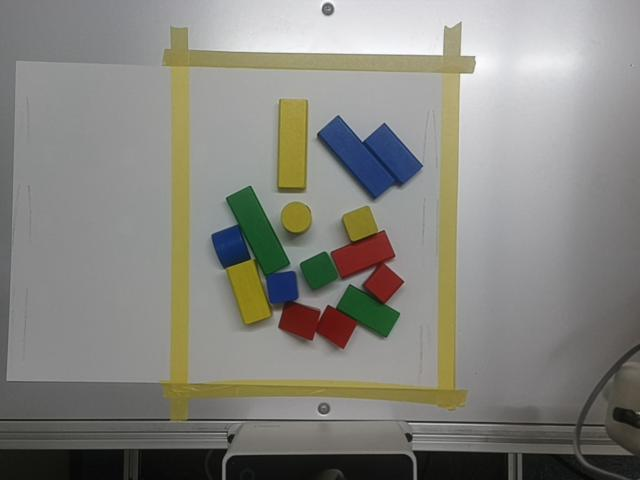blue_cube: (266, 271, 298, 304)
blue_longrect: (318, 117, 394, 199)
blue_rect: (363, 123, 421, 185)
cylinder: (281, 202, 311, 234)
green_cube: (300, 252, 338, 289)
green_longrect: (226, 186, 289, 275)
green_rect: (336, 285, 399, 337)
half_cylinder: (211, 225, 250, 267)
red_cube: (363, 263, 403, 303)
red_rect: (331, 231, 394, 277)
triangle: (316, 306, 356, 348), (279, 302, 319, 340)
yellow_cube: (342, 206, 378, 242)
yellow_longrect: (277, 99, 307, 190)
yelow_rect: (227, 260, 271, 324)
